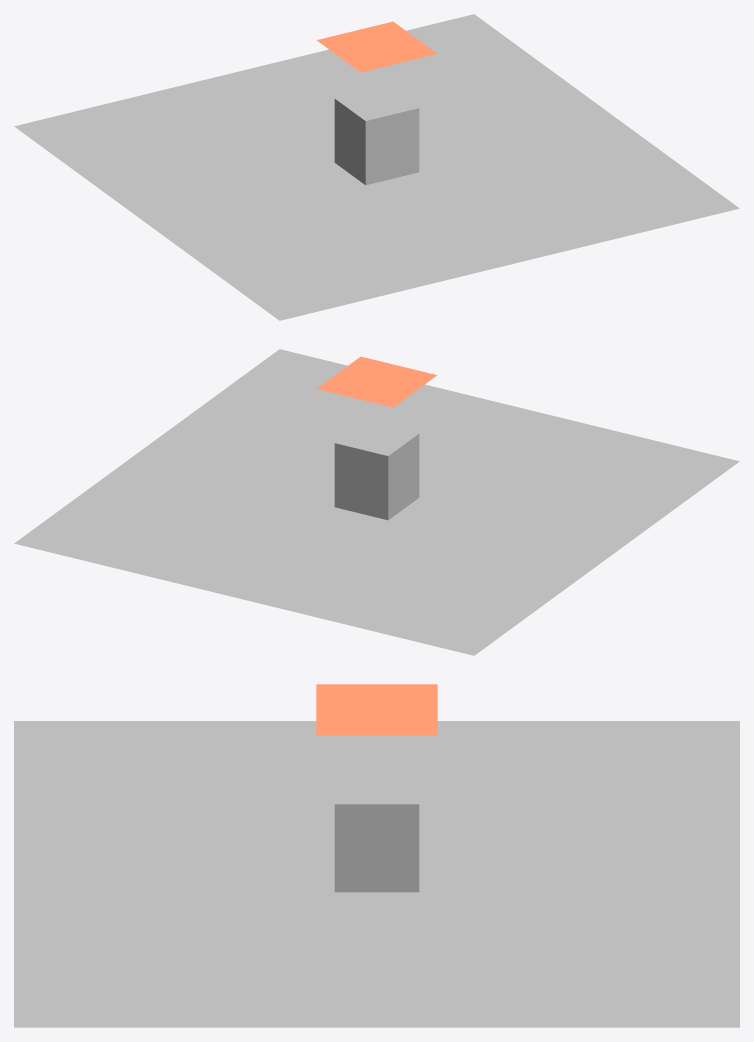
Rendered from emissive-occlusion-stage.gltf.
The picture shows the model from 3 angles, top to bottom: view 1: azimuth 30°, elevation 25°; view 2: azimuth 150°, elevation 25°; view 3: azimuth 270°, elevation 25°; orthographic projection. The views are drawn at different scales.
Visible parts, largest first — view 1: Floor and emissive panel; view 2: Floor and emissive panel; view 3: Floor and emissive panel.
Part boxes in pixels (x1,y1,x2,y2): Floor and emissive panel: [14, 14, 739, 320]; Floor and emissive panel: [14, 349, 739, 655]; Floor and emissive panel: [14, 684, 739, 1027].
Bounding box in the file's own units: 12 × 3 × 12.
